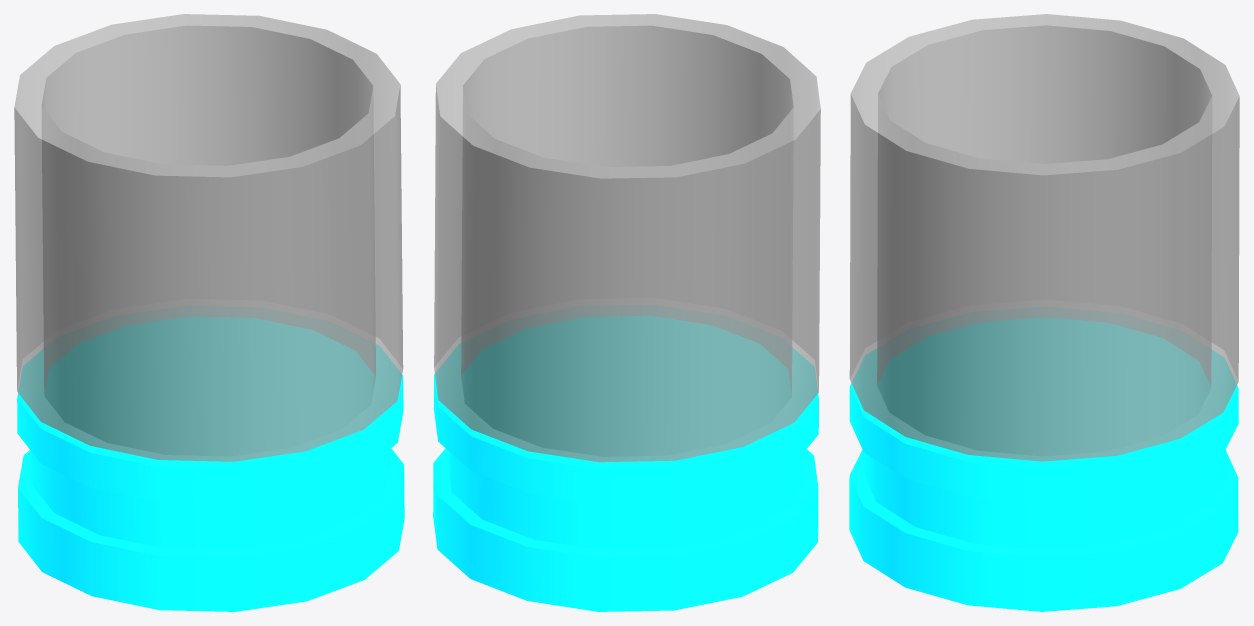
Rendered from sampleJar.fbx.
The picture shows the model from 3 angles, left to right: view 1: azimuth 30°, elevation 25°; view 2: azimuth 150°, elevation 25°; view 3: azimuth 270°, elevation 25°; orthographic projection.
Visible parts, largest first — view 1: sampleJar; view 2: sampleJar; view 3: sampleJar.
Boxes of the visible parts, bbox=[...] form: sampleJar: bbox=[14, 14, 404, 611]; sampleJar: bbox=[433, 14, 820, 611]; sampleJar: bbox=[849, 14, 1239, 611].
Size of the model in its own units: 0.7219 by 1.02 by 0.7172.
